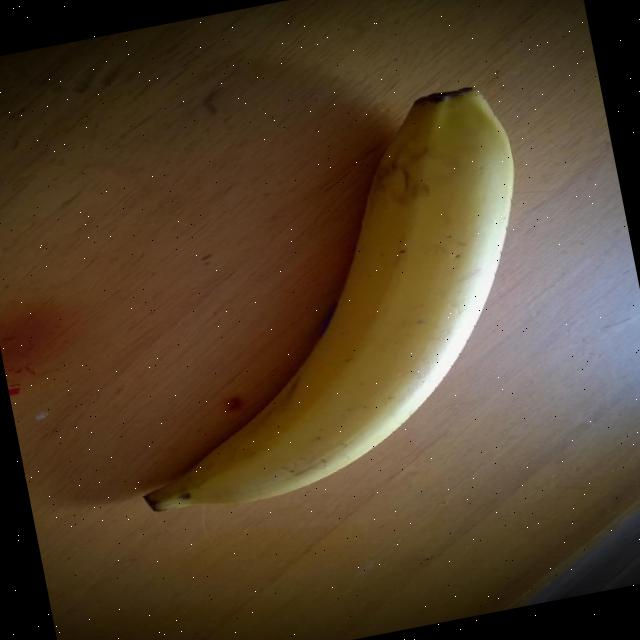banana: (141, 87, 514, 514)
